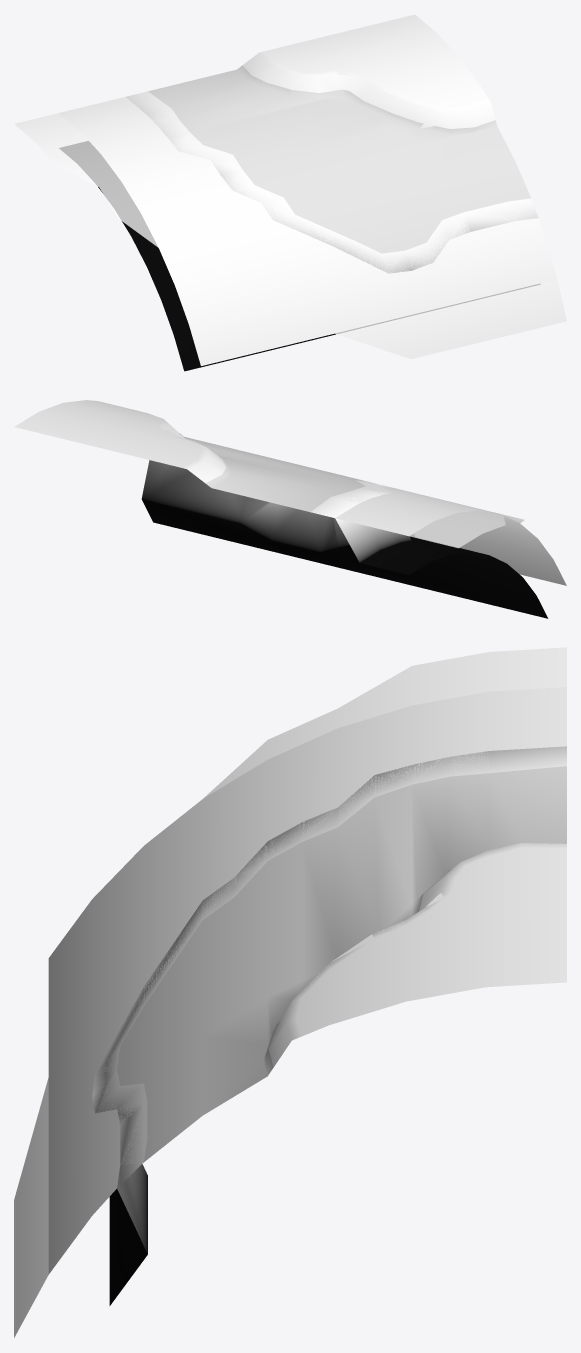
File: grd_Isw_1.dae
3 renders of one model, top to bottom at view 1: azimuth 30°, elevation 25°; view 2: azimuth 150°, elevation 25°; view 3: azimuth 270°, elevation 25°, orthographic. The views are drawn at different scales.
Parts seen in each view (by area): view 1: ocean_4_0, wave_5_0, beach_0_0, beach_1_0, grass_3_0, beach_cliff_2_0; view 2: beach_1_0, ocean_4_0, grass_3_0, beach_0_0, wave_5_0, beach_cliff_2_0; view 3: ocean_4_0, beach_0_0, wave_5_0, grass_3_0, beach_1_0, beach_cliff_2_0.
Part boxes in pixels (<box>): ocean_4_0: <box>59,97,557,365</box>; wave_5_0: <box>14,97,566,358</box>; beach_0_0: <box>148,65,530,253</box>; beach_1_0: <box>59,91,539,371</box>; grass_3_0: <box>260,14,487,109</box>; beach_cliff_2_0: <box>242,51,495,132</box>; beach_1_0: <box>141,460,548,618</box>; ocean_4_0: <box>335,481,566,585</box>; grass_3_0: <box>14,400,201,468</box>; beach_0_0: <box>179,433,365,511</box>; wave_5_0: <box>336,486,524,548</box>; beach_cliff_2_0: <box>97,401,226,483</box>; ocean_4_0: <box>48,687,566,1273</box>; beach_0_0: <box>117,766,566,1161</box>; wave_5_0: <box>14,647,566,1337</box>; grass_3_0: <box>295,843,566,1038</box>; beach_1_0: <box>92,746,566,1305</box>; beach_cliff_2_0: <box>264,843,566,1070</box>.
Bounding box in the file's own units: 576 × 269 × 378.
Materials: 6 (1 with a texture image).
